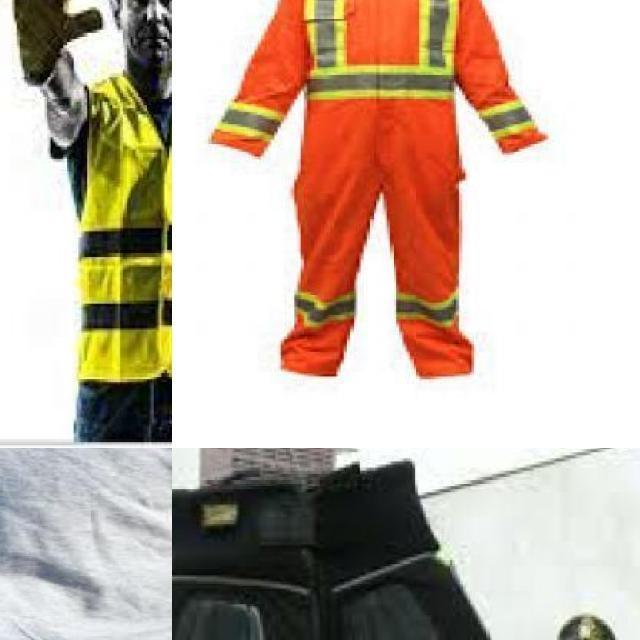apron: (315, 470, 618, 640), (172, 502, 326, 640), (0, 0, 97, 74)
